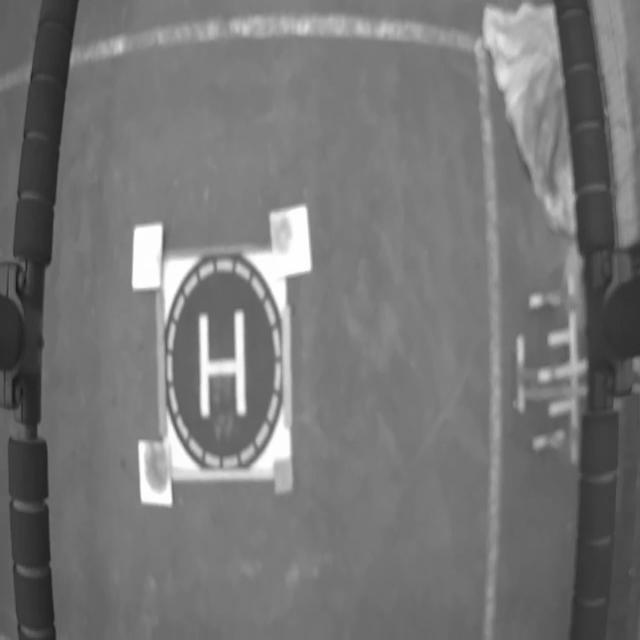Helipad: (199, 310, 247, 417)
